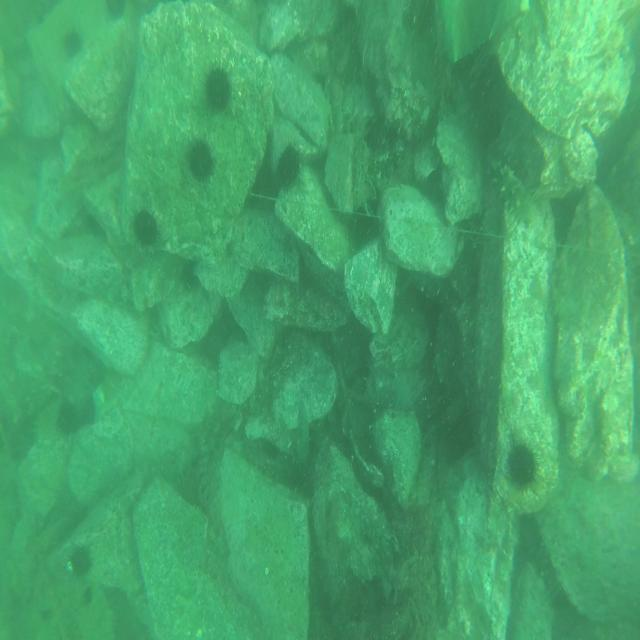echinus: (502, 428, 541, 492), (272, 138, 304, 192), (130, 206, 160, 254), (204, 62, 231, 115), (185, 138, 215, 182), (52, 400, 82, 442), (69, 538, 93, 582), (60, 29, 82, 65), (105, 0, 126, 23)
holothurian: (490, 162, 535, 232), (288, 399, 313, 480)
